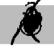not correct: (10, 0, 42, 46)
